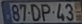3: (63, 2, 74, 21)
4: (55, 2, 65, 21)
7: (19, 3, 27, 22)
8: (11, 3, 20, 22)
D: (29, 3, 41, 22)
P: (40, 3, 51, 22)
